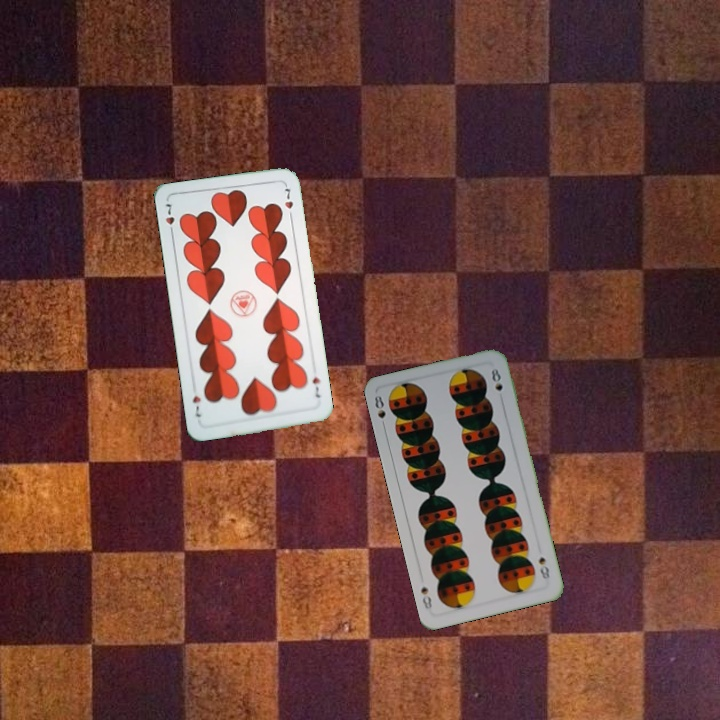H7: (161, 199, 177, 239), (308, 373, 323, 400)
S8: (369, 391, 388, 431), (535, 553, 552, 581)
